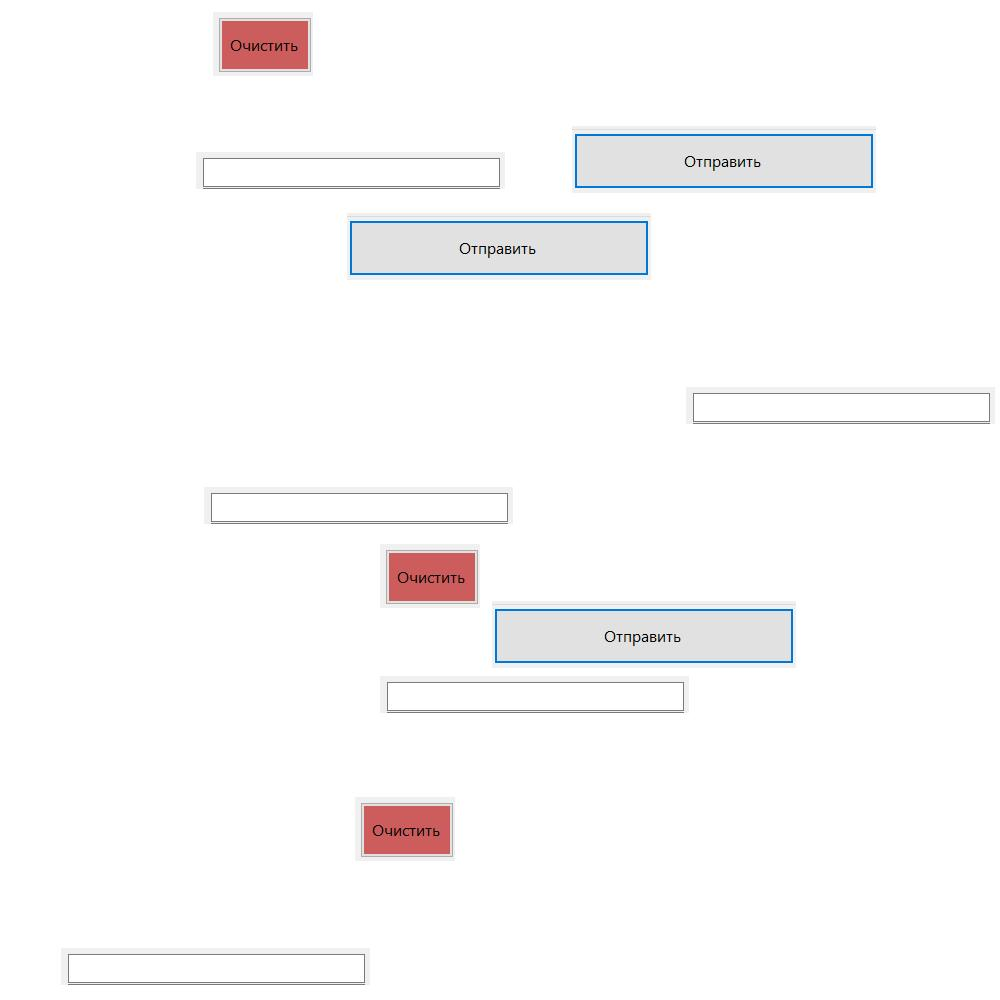Button: (492, 601, 796, 668), (572, 126, 876, 193), (347, 213, 651, 280), (355, 797, 455, 861), (380, 544, 480, 608), (213, 12, 313, 76)
EditText-: (204, 487, 513, 524), (196, 152, 505, 189), (686, 387, 995, 424), (61, 948, 370, 985), (380, 676, 689, 713)
